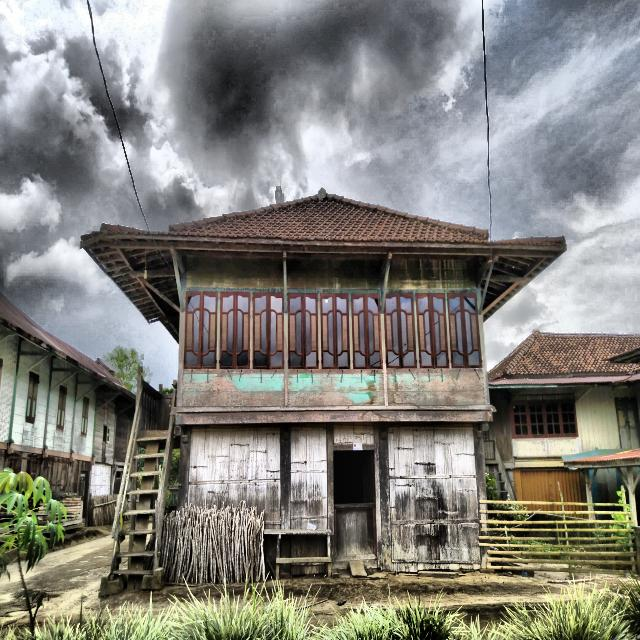door: (333, 450, 377, 561)
roof: (81, 189, 565, 340), (0, 292, 130, 394), (489, 330, 640, 383), (564, 449, 640, 468)
stair: (111, 366, 173, 588), (495, 443, 515, 500)
wall: (182, 256, 285, 406), (384, 264, 485, 405), (288, 260, 385, 406), (388, 424, 481, 571), (290, 423, 382, 569), (188, 424, 281, 529), (512, 386, 639, 455), (12, 357, 51, 448), (46, 372, 77, 452), (0, 336, 19, 442), (73, 388, 97, 457), (94, 398, 117, 459), (19, 354, 43, 374), (51, 370, 72, 388)
window: (511, 396, 577, 438), (448, 294, 481, 367), (185, 293, 216, 368), (385, 294, 416, 367), (417, 294, 448, 367), (253, 294, 283, 368), (220, 293, 249, 368), (289, 294, 318, 368), (352, 295, 381, 368), (321, 295, 349, 368), (615, 397, 640, 449), (25, 373, 39, 423), (56, 386, 67, 429), (81, 397, 90, 436)
